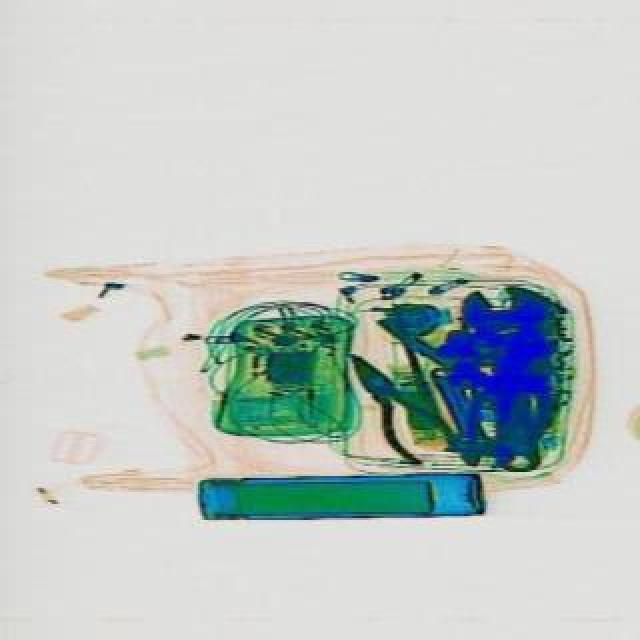scissors: (454, 284, 558, 472)
wrench: (324, 338, 456, 474)
